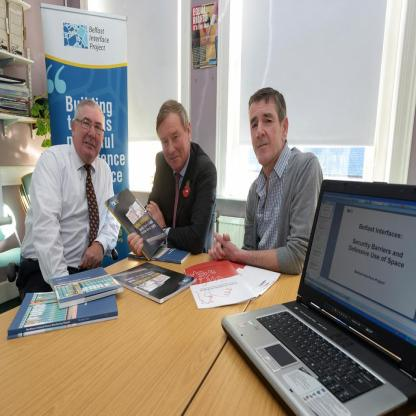board: (223, 181, 410, 414)
